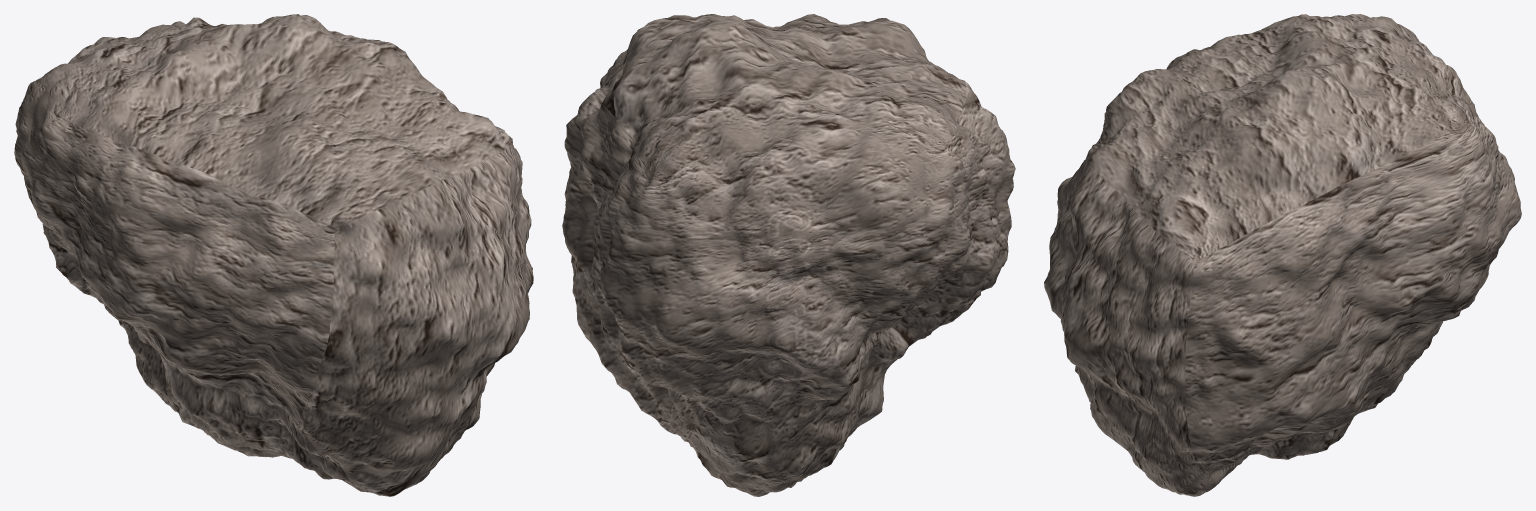
The model's file is Meteoro planeta.glb.
3 renders of one model, left to right at view 1: azimuth 30°, elevation 25°; view 2: azimuth 150°, elevation 25°; view 3: azimuth 270°, elevation 25°, orthographic. The views are drawn at different scales.
Parts seen in each view (by area): view 1: asteroid3_LOD0; view 2: asteroid3_LOD0; view 3: asteroid3_LOD0.
Part boxes in pixels (bbox=[...]): asteroid3_LOD0: bbox=[14, 14, 533, 496]; asteroid3_LOD0: bbox=[562, 14, 1015, 496]; asteroid3_LOD0: bbox=[1044, 14, 1521, 496].
Bounding box in the file's own units: 0.7975 × 0.7933 × 0.8534.
Materials: 1 (1 with a texture image).
